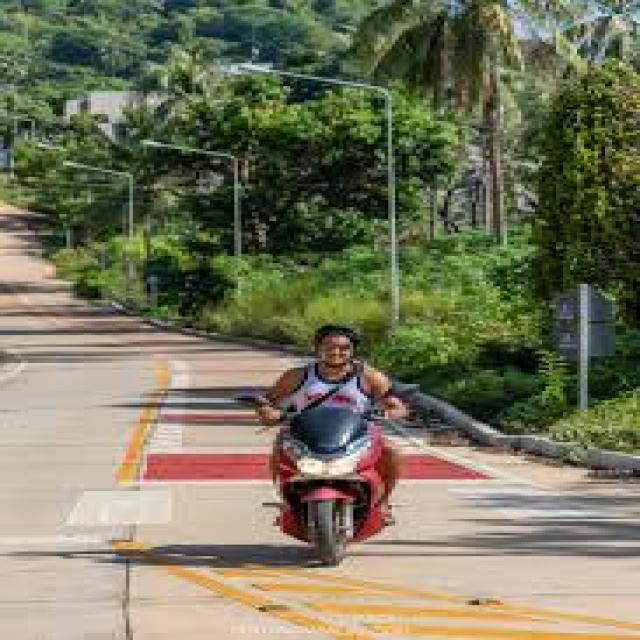Without Helmet: (301, 317, 370, 374)
